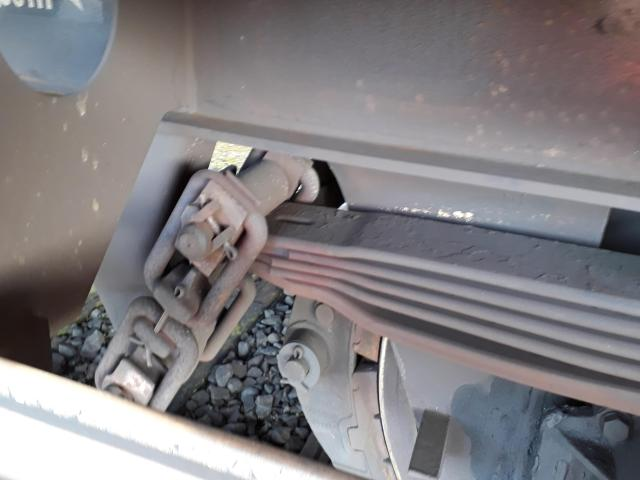blattfederww: (288, 199, 640, 398)
